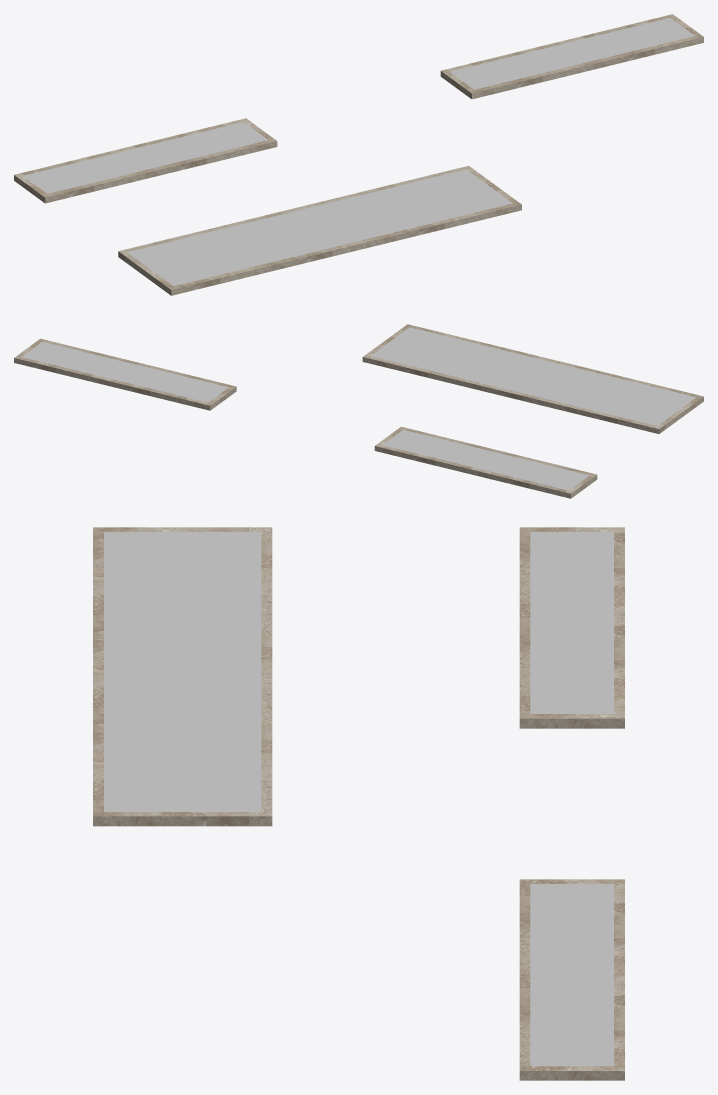
The model's file is SM_HuaTan.FBX.
3 renders of one model, top to bottom at view 1: azimuth 30°, elevation 25°; view 2: azimuth 150°, elevation 25°; view 3: azimuth 270°, elevation 25°, orthographic. The views are drawn at different scales.
Parts seen in each view (by area): view 1: SM_HuaTan; view 2: SM_HuaTan; view 3: SM_HuaTan.
Part boxes in pixels (<box>): SM_HuaTan: <box>14,14,703,295</box>; SM_HuaTan: <box>14,324,703,498</box>; SM_HuaTan: <box>93,527,624,1080</box>.
Bounding box in the file's own units: 588 × 5 × 243.
